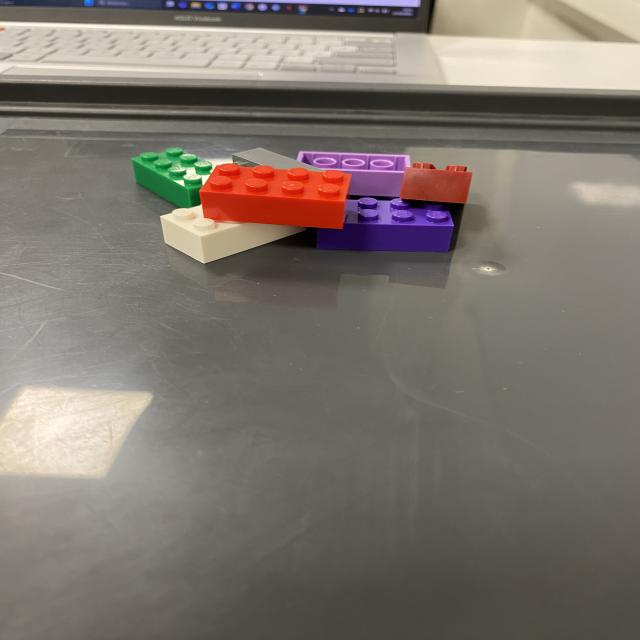C4x2x1: (198, 163, 355, 228)
